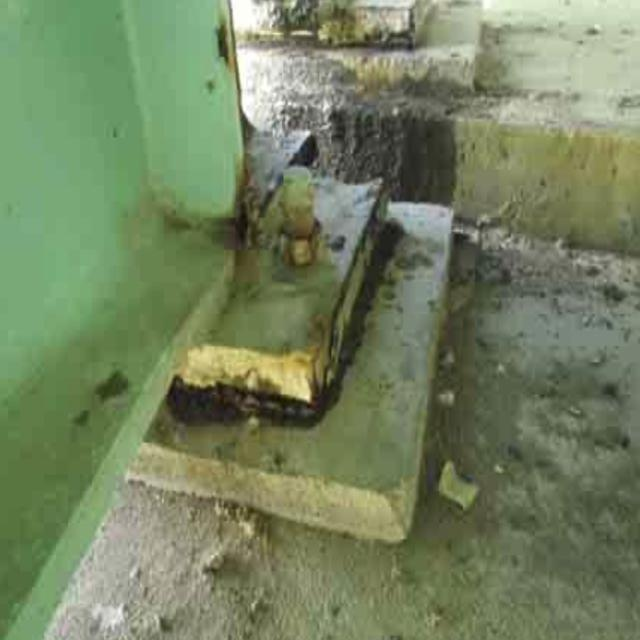corrosion: (178, 20, 392, 459)
